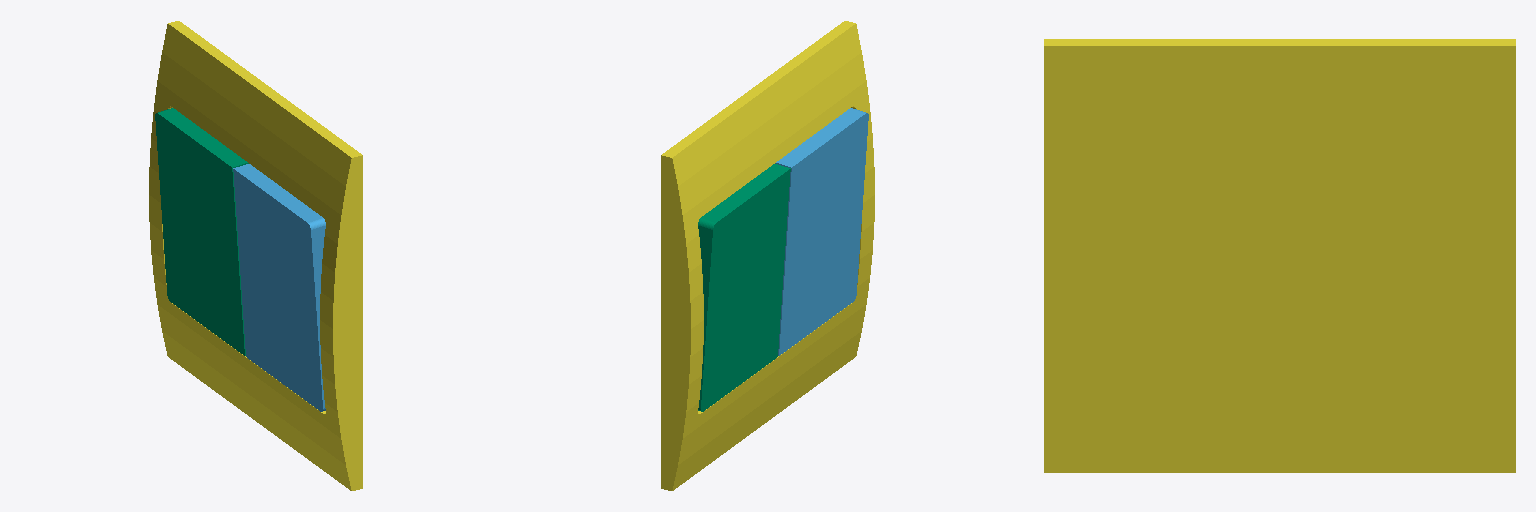
The robot description file, URDF, robot "partnet_67eb858b-92bd-4109-8585-a9699ee95082":
<robot name="partnet_67eb858b-92bd-4109-8585-a9699ee95082">
	<link name="base"><inertial><mass value="10" /><inertia ixx="1" ixy="0" ixz="0" iyy="1" iyz="0" izz="1" /></inertial></link>
	<link name="link_0">
		<visual name="switch-1">
			<origin xyz="-0.6161219999999998 0.0006297741808909216 -0.0387173698032309" />
			<geometry>
				<mesh filename="textured_objs/original-22.obj" />
			</geometry>
		</visual>
		<collision>
			<origin xyz="-0.6161219999999998 0.0006297741808909216 -0.0387173698032309" />
			<geometry>
				<mesh filename="textured_objs/original-22.obj" />
			</geometry>
		</collision>
	<inertial><mass value="10" /><inertia ixx="1" ixy="0" ixz="0" iyy="1" iyz="0" izz="1" /></inertial></link>
	<joint name="joint_0" type="revolute">
		<origin xyz="0.6161219999999998 -0.0006297741808909216 0.0387173698032309" />
		<axis xyz="-1 0 0" />
		<child link="link_0" />
		<parent link="link_2" />
		<limit effort="30" lower="-0.0" upper="0.15707963267948966" velocity="1.0" />
	</joint>
	<link name="link_1">
		<visual name="switch-2">
			<origin xyz="-0.6161219999999998 0.0006297741808909216 -0.0387173698032309" />
			<geometry>
				<mesh filename="textured_objs/original-21.obj" />
			</geometry>
		</visual>
		<collision>
			<origin xyz="-0.6161219999999998 0.0006297741808909216 -0.0387173698032309" />
			<geometry>
				<mesh filename="textured_objs/original-21.obj" />
			</geometry>
		</collision>
	<inertial><mass value="10" /><inertia ixx="1" ixy="0" ixz="0" iyy="1" iyz="0" izz="1" /></inertial></link>
	<joint name="joint_1" type="revolute">
		<origin xyz="0.6161219999999998 -0.0006297741808909216 0.0387173698032309" />
		<axis xyz="-1 0 0" />
		<child link="link_1" />
		<parent link="link_2" />
		<limit effort="30" lower="-0.0" upper="0.15707963267948966" velocity="1.0" />
	</joint>
	<link name="link_2">
		<visual name="base_body-3">
			<origin xyz="0 0 0" />
			<geometry>
				<mesh filename="textured_objs/original-4.obj" />
			</geometry>
		</visual>
		<visual name="base_body-3">
			<origin xyz="0 0 0" />
			<geometry>
				<mesh filename="textured_objs/original-3.obj" />
			</geometry>
		</visual>
		<visual name="base_body-3">
			<origin xyz="0 0 0" />
			<geometry>
				<mesh filename="textured_objs/original-2.obj" />
			</geometry>
		</visual>
		<visual name="base_body-3">
			<origin xyz="0 0 0" />
			<geometry>
				<mesh filename="textured_objs/original-16.obj" />
			</geometry>
		</visual>
		<visual name="base_body-3">
			<origin xyz="0 0 0" />
			<geometry>
				<mesh filename="textured_objs/original-8.obj" />
			</geometry>
		</visual>
		<visual name="base_body-3">
			<origin xyz="0 0 0" />
			<geometry>
				<mesh filename="textured_objs/original-13.obj" />
			</geometry>
		</visual>
		<visual name="base_body-3">
			<origin xyz="0 0 0" />
			<geometry>
				<mesh filename="textured_objs/original-9.obj" />
			</geometry>
		</visual>
		<visual name="base_body-3">
			<origin xyz="0 0 0" />
			<geometry>
				<mesh filename="textured_objs/original-5.obj" />
			</geometry>
		</visual>
		<visual name="base_body-3">
			<origin xyz="0 0 0" />
			<geometry>
				<mesh filename="textured_objs/original-6.obj" />
			</geometry>
		</visual>
		<visual name="base_body-3">
			<origin xyz="0 0 0" />
			<geometry>
				<mesh filename="textured_objs/original-15.obj" />
			</geometry>
		</visual>
		<visual name="base_body-3">
			<origin xyz="0 0 0" />
			<geometry>
				<mesh filename="textured_objs/original-11.obj" />
			</geometry>
		</visual>
		<visual name="base_body-3">
			<origin xyz="0 0 0" />
			<geometry>
				<mesh filename="textured_objs/original-18.obj" />
			</geometry>
		</visual>
		<visual name="base_body-3">
			<origin xyz="0 0 0" />
			<geometry>
				<mesh filename="textured_objs/original-17.obj" />
			</geometry>
		</visual>
		<visual name="base_body-3">
			<origin xyz="0 0 0" />
			<geometry>
				<mesh filename="textured_objs/original-12.obj" />
			</geometry>
		</visual>
		<visual name="base_body-3">
			<origin xyz="0 0 0" />
			<geometry>
				<mesh filename="textured_objs/original-7.obj" />
			</geometry>
		</visual>
		<visual name="base_body-3">
			<origin xyz="0 0 0" />
			<geometry>
				<mesh filename="textured_objs/original-10.obj" />
			</geometry>
		</visual>
		<visual name="base_body-3">
			<origin xyz="0 0 0" />
			<geometry>
				<mesh filename="textured_objs/original-14.obj" />
			</geometry>
		</visual>
		<visual name="base_body-3">
			<origin xyz="0 0 0" />
			<geometry>
				<mesh filename="textured_objs/original-19.obj" />
			</geometry>
		</visual>
		<collision>
			<origin xyz="0 0 0" />
			<geometry>
				<mesh filename="textured_objs/original-4.obj" />
			</geometry>
		</collision>
		<collision>
			<origin xyz="0 0 0" />
			<geometry>
				<mesh filename="textured_objs/original-3.obj" />
			</geometry>
		</collision>
		<collision>
			<origin xyz="0 0 0" />
			<geometry>
				<mesh filename="textured_objs/original-2.obj" />
			</geometry>
		</collision>
		<collision>
			<origin xyz="0 0 0" />
			<geometry>
				<mesh filename="textured_objs/original-16.obj" />
			</geometry>
		</collision>
		<collision>
			<origin xyz="0 0 0" />
			<geometry>
				<mesh filename="textured_objs/original-8.obj" />
			</geometry>
		</collision>
		<collision>
			<origin xyz="0 0 0" />
			<geometry>
				<mesh filename="textured_objs/original-13.obj" />
			</geometry>
		</collision>
		<collision>
			<origin xyz="0 0 0" />
			<geometry>
				<mesh filename="textured_objs/original-9.obj" />
			</geometry>
		</collision>
		<collision>
			<origin xyz="0 0 0" />
			<geometry>
				<mesh filename="textured_objs/original-5.obj" />
			</geometry>
		</collision>
		<collision>
			<origin xyz="0 0 0" />
			<geometry>
				<mesh filename="textured_objs/original-6.obj" />
			</geometry>
		</collision>
		<collision>
			<origin xyz="0 0 0" />
			<geometry>
				<mesh filename="textured_objs/original-15.obj" />
			</geometry>
		</collision>
		<collision>
			<origin xyz="0 0 0" />
			<geometry>
				<mesh filename="textured_objs/original-11.obj" />
			</geometry>
		</collision>
		<collision>
			<origin xyz="0 0 0" />
			<geometry>
				<mesh filename="textured_objs/original-18.obj" />
			</geometry>
		</collision>
		<collision>
			<origin xyz="0 0 0" />
			<geometry>
				<mesh filename="textured_objs/original-17.obj" />
			</geometry>
		</collision>
		<collision>
			<origin xyz="0 0 0" />
			<geometry>
				<mesh filename="textured_objs/original-12.obj" />
			</geometry>
		</collision>
		<collision>
			<origin xyz="0 0 0" />
			<geometry>
				<mesh filename="textured_objs/original-7.obj" />
			</geometry>
		</collision>
		<collision>
			<origin xyz="0 0 0" />
			<geometry>
				<mesh filename="textured_objs/original-10.obj" />
			</geometry>
		</collision>
		<collision>
			<origin xyz="0 0 0" />
			<geometry>
				<mesh filename="textured_objs/original-14.obj" />
			</geometry>
		</collision>
		<collision>
			<origin xyz="0 0 0" />
			<geometry>
				<mesh filename="textured_objs/original-19.obj" />
			</geometry>
		</collision>
	<inertial><mass value="10" /><inertia ixx="1" ixy="0" ixz="0" iyy="1" iyz="0" izz="1" /></inertial></link>
	<joint name="joint_2" type="fixed">
		<origin rpy="1.570796326794897 0 -1.570796326794897" xyz="0 0 0" />
		<child link="link_2" />
		<parent link="base" />
	</joint>
</robot>

--- What the picture shows (computed from the rendered views, not written in the file) ---
Views: 3 orthographic renders of the robot side by side, from view 1: azimuth 30°, elevation 25°; view 2: azimuth 150°, elevation 25°; view 3: azimuth 270°, elevation 25°.
Robot: partnet_67eb858b-92bd-4109-8585-a9699ee95082 — 4 links, 3 joints (2 revolute, 1 fixed); root link base; default pose: every joint at zero.
Links seen in each view (by area): view 1: link_2, link_0, link_1; view 2: link_2, link_1, link_0; view 3: link_2.
Boxes of the visible links, x1,y1,x2,y2 form: link_2: [149, 21, 362, 490]; link_0: [233, 164, 325, 411]; link_1: [155, 108, 248, 355]; link_2: [661, 21, 874, 490]; link_1: [698, 164, 790, 411]; link_0: [775, 108, 868, 355]; link_2: [1044, 39, 1515, 472].
Size in the robot's own frame: 0.1728 by 1.44 by 1.44 metres.
20 mesh visuals loaded from 20 distinct referenced files (20 OBJ).